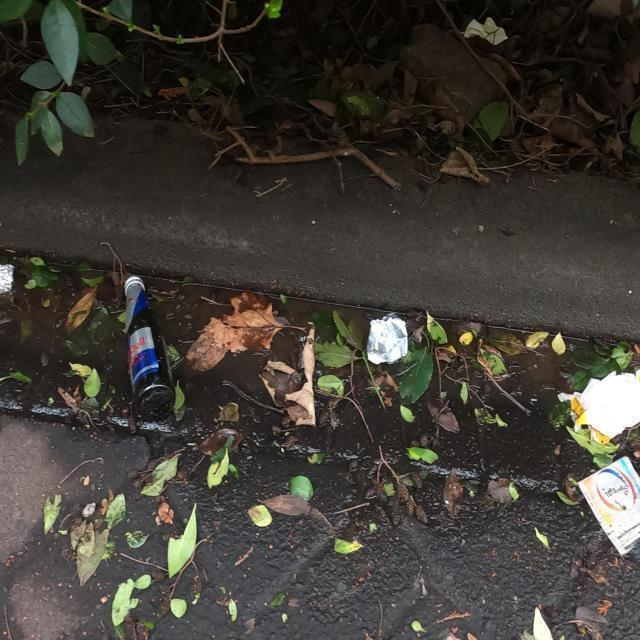Paper: (557, 366, 640, 446), (577, 454, 640, 558), (366, 313, 408, 364)
Plastic: (0, 263, 15, 294)
